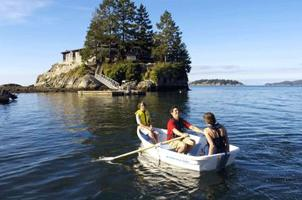person: (167, 105, 205, 155)
